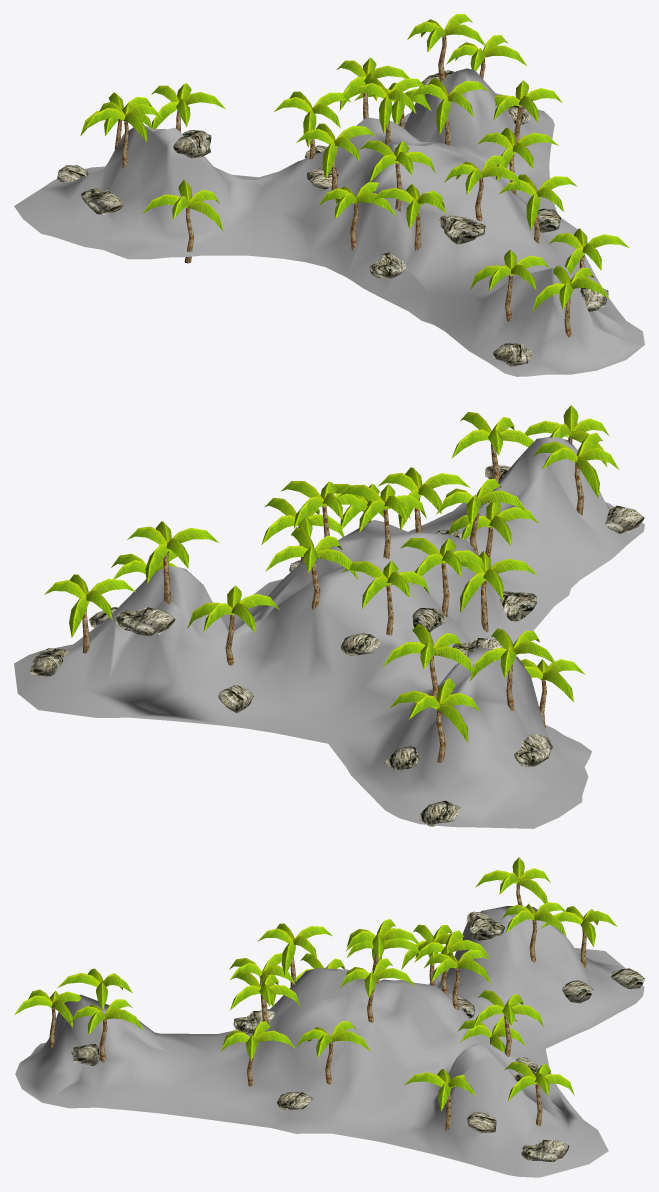
The model's file is island_12.fbx.
3 renders of one model, top to bottom at view 1: azimuth 30°, elevation 25°; view 2: azimuth 150°, elevation 25°; view 3: azimuth 270°, elevation 25°, orthographic. The views are drawn at different scales.
Visible parts, largest first — view 1: island_12; view 2: island_12; view 3: island_12.
Part boxes in pixels (<box>): island_12: <box>14,14,644,376</box>; island_12: <box>14,405,644,828</box>; island_12: <box>14,857,644,1177</box>.
Size of the model in its own units: 51.98 by 15.77 by 60.16.
